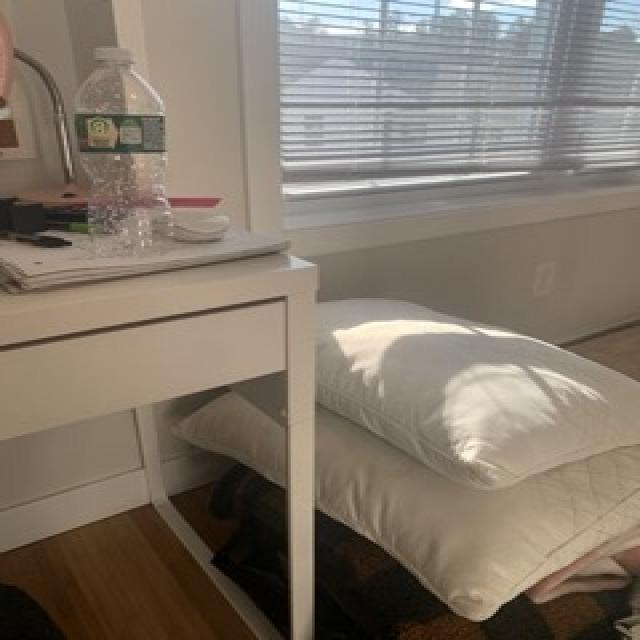water_bottle: (65, 44, 179, 262), (67, 43, 180, 262)
